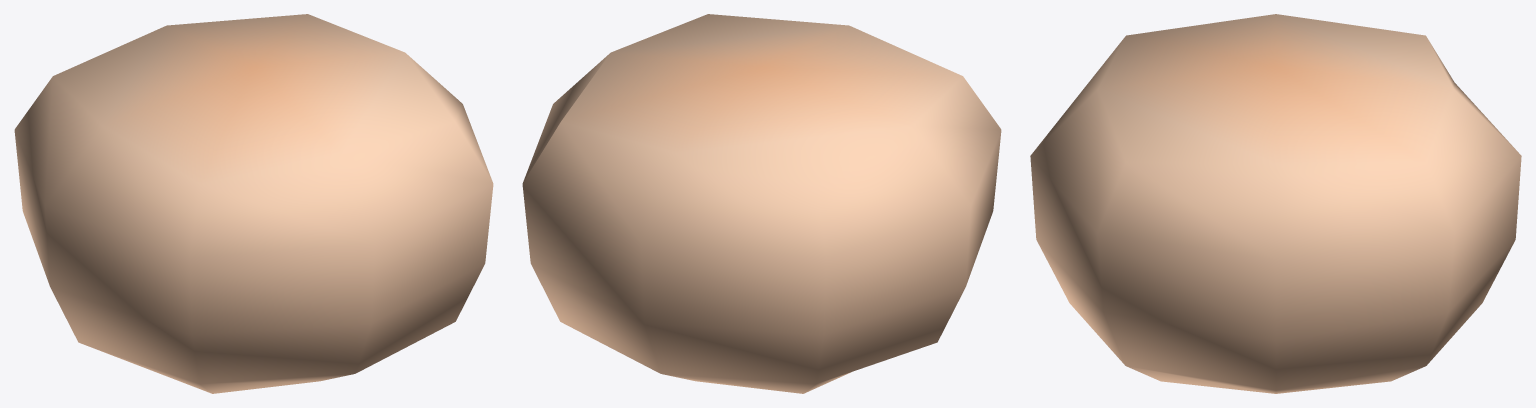
The model's file is dough-ball.glb.
3 renders of one model, left to right at view 1: azimuth 30°, elevation 25°; view 2: azimuth 150°, elevation 25°; view 3: azimuth 270°, elevation 25°, orthographic.
Visible parts, largest first — view 1: dough_ball; view 2: dough_ball; view 3: dough_ball.
Part boxes in pixels (x1=…): dough_ball: x1=14, y1=14, x2=493, y2=393; dough_ball: x1=522, y1=14, x2=1001, y2=393; dough_ball: x1=1030, y1=14, x2=1521, y2=393.
Bounding box in the file's own units: 0.3078 × 0.1933 × 0.3078.
1 material, 1 textured.
